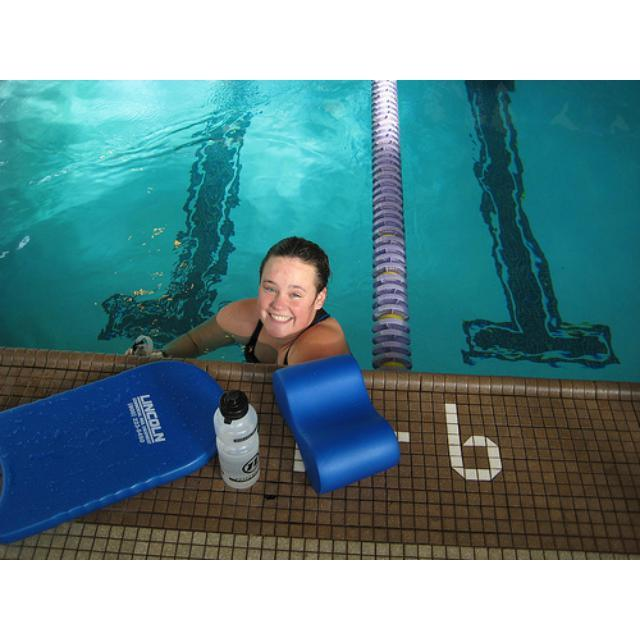human: (123, 236, 352, 361)
